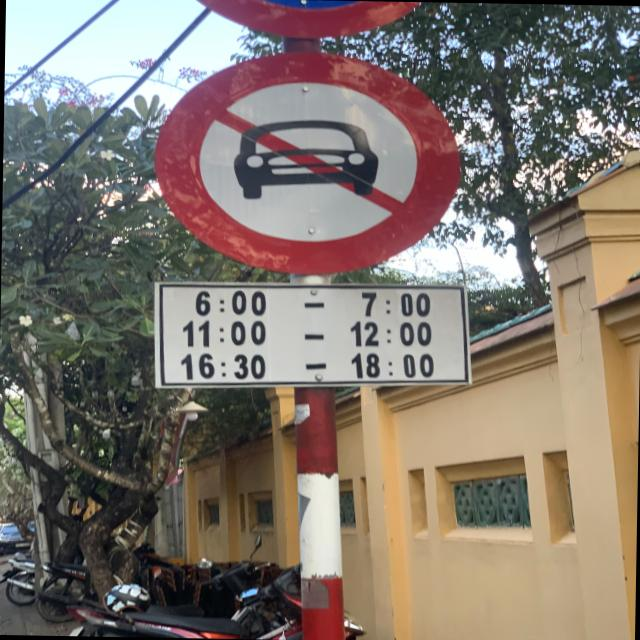Cam_O_To: (150, 47, 464, 277)
